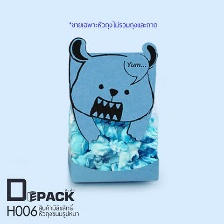snack: (58, 32, 167, 188)
